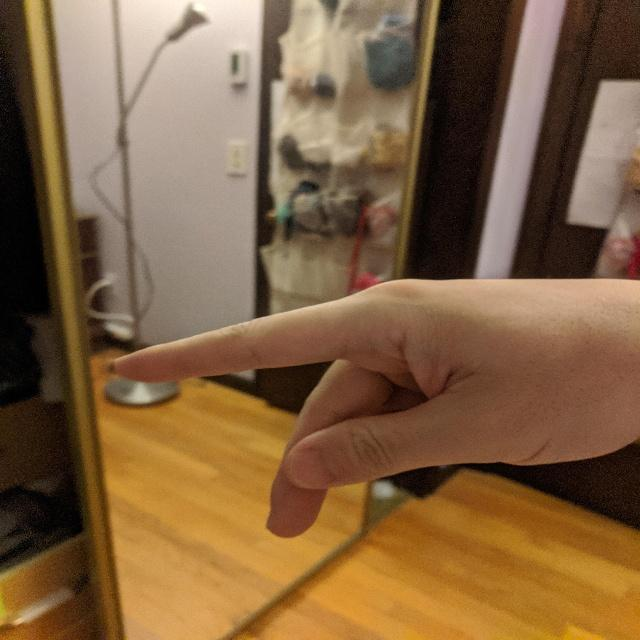P: (109, 273, 640, 548)
